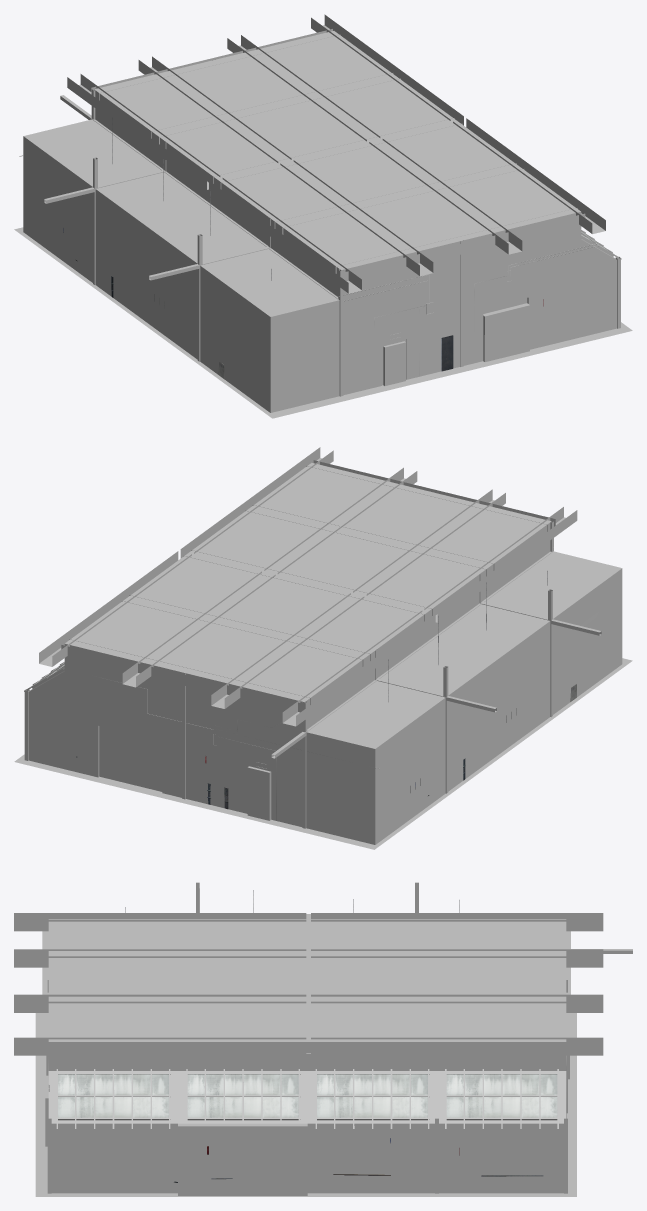
The model's file is garage_final.FBX.
3 renders of one model, top to bottom at view 1: azimuth 30°, elevation 25°; view 2: azimuth 150°, elevation 25°; view 3: azimuth 270°, elevation 25°, orthographic. The views are drawn at different scales.
Parts seen in each view (by area): view 1: Box001, Plane001; view 2: Box001, Plane001; view 3: Box001, Object063, Plane001.
Boxes of the visible parts, x1,y1,x2,y2 form: Box001: [19, 14, 621, 412]; Plane001: [14, 227, 632, 418]; Box001: [24, 447, 622, 844]; Plane001: [14, 658, 632, 849]; Box001: [14, 882, 632, 1195]; Object063: [58, 1074, 557, 1117]; Plane001: [35, 1013, 576, 1196].
Bounding box in the file's own units: 139 × 49.14 × 175.
